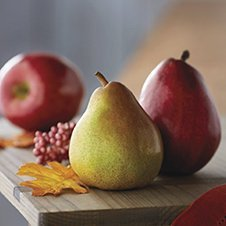steak: (68, 72, 165, 190), (139, 52, 222, 177), (0, 50, 87, 132)
